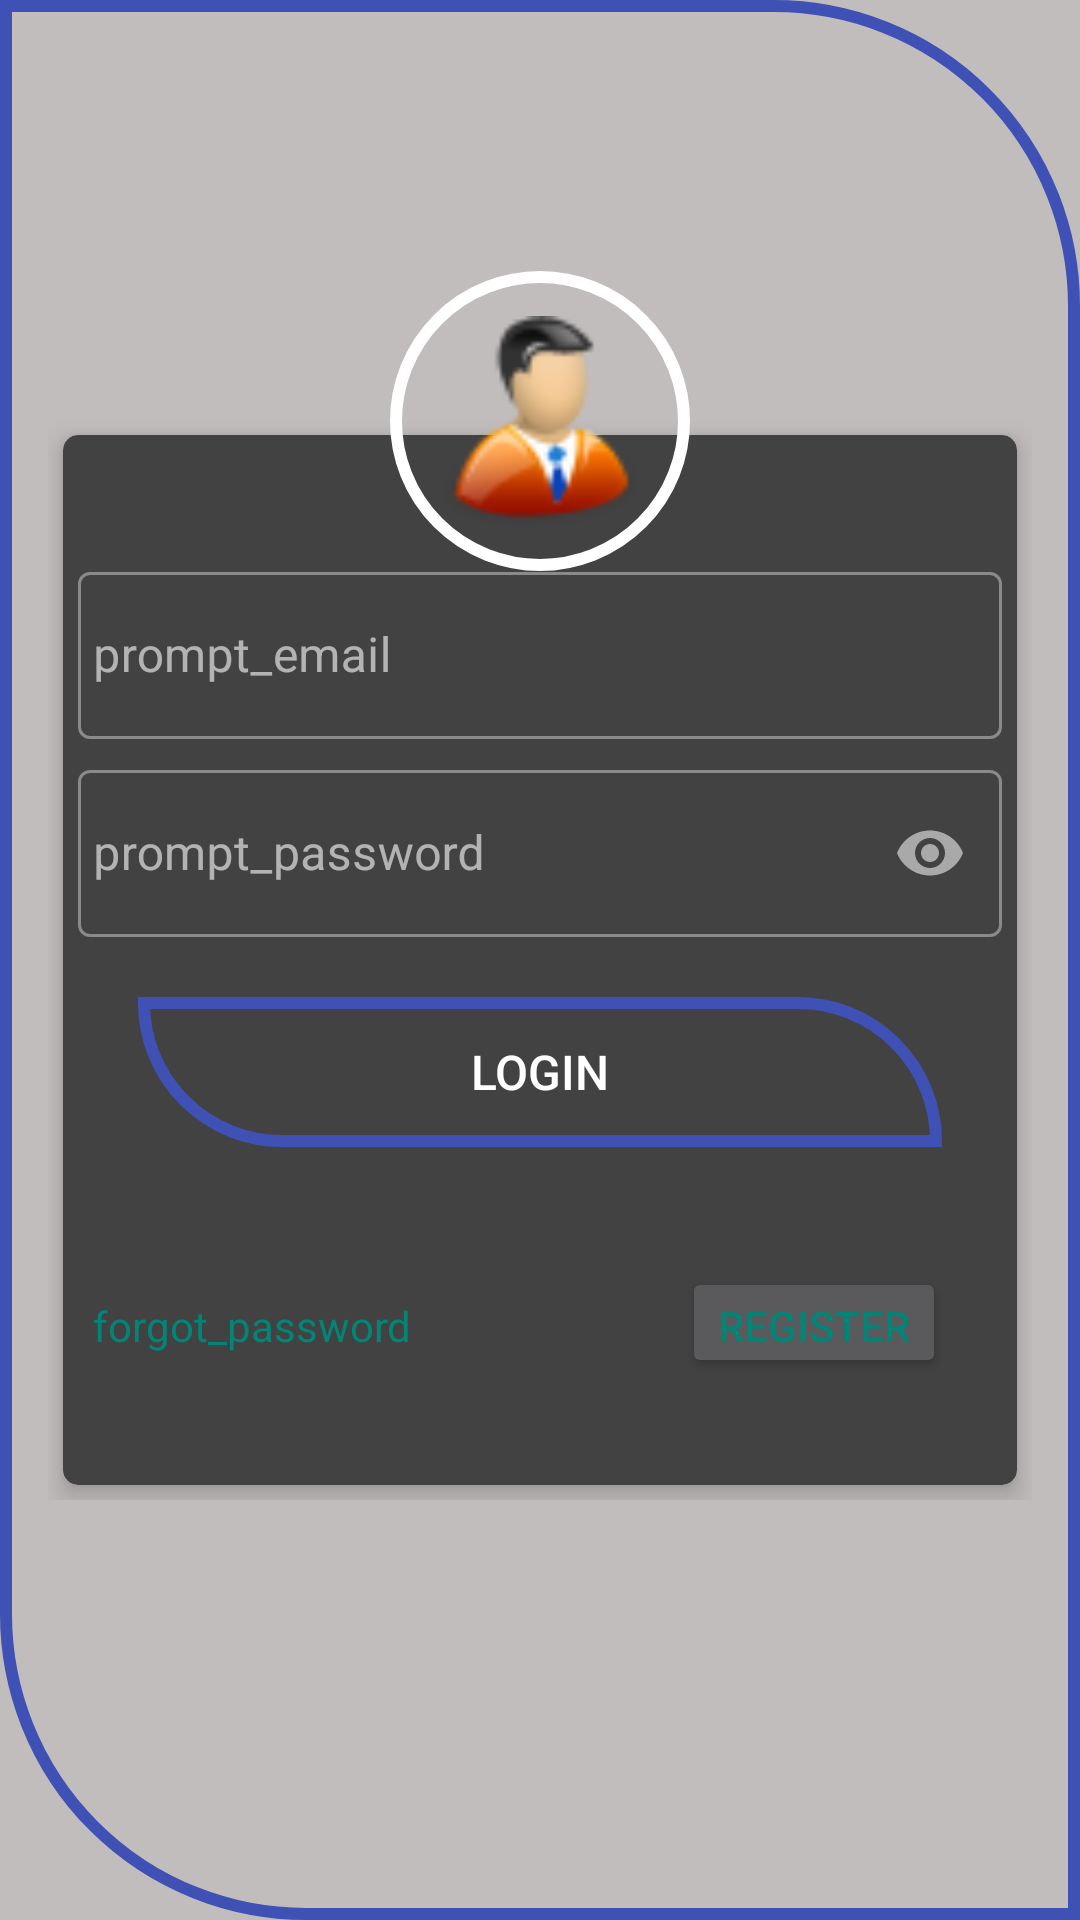

Named icons in this screenshot (1080px x 1920px) and their centers, (x=x, y=y):
profile: (x=540, y=421)
